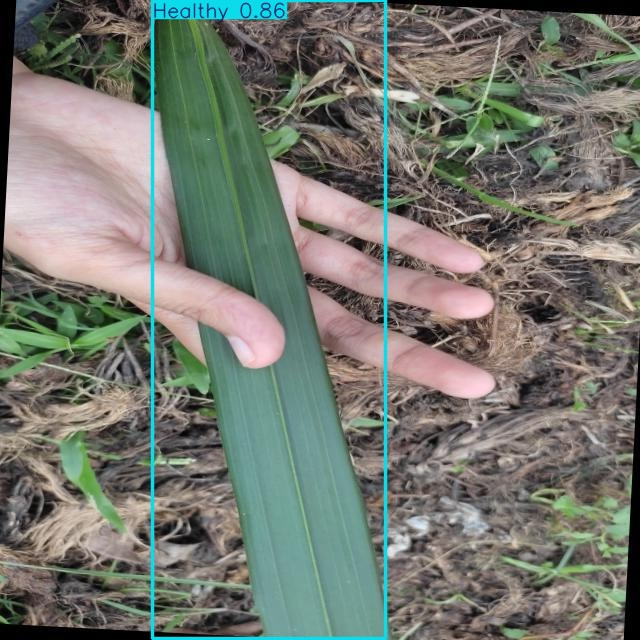Healthy: (152, 1, 386, 639)
